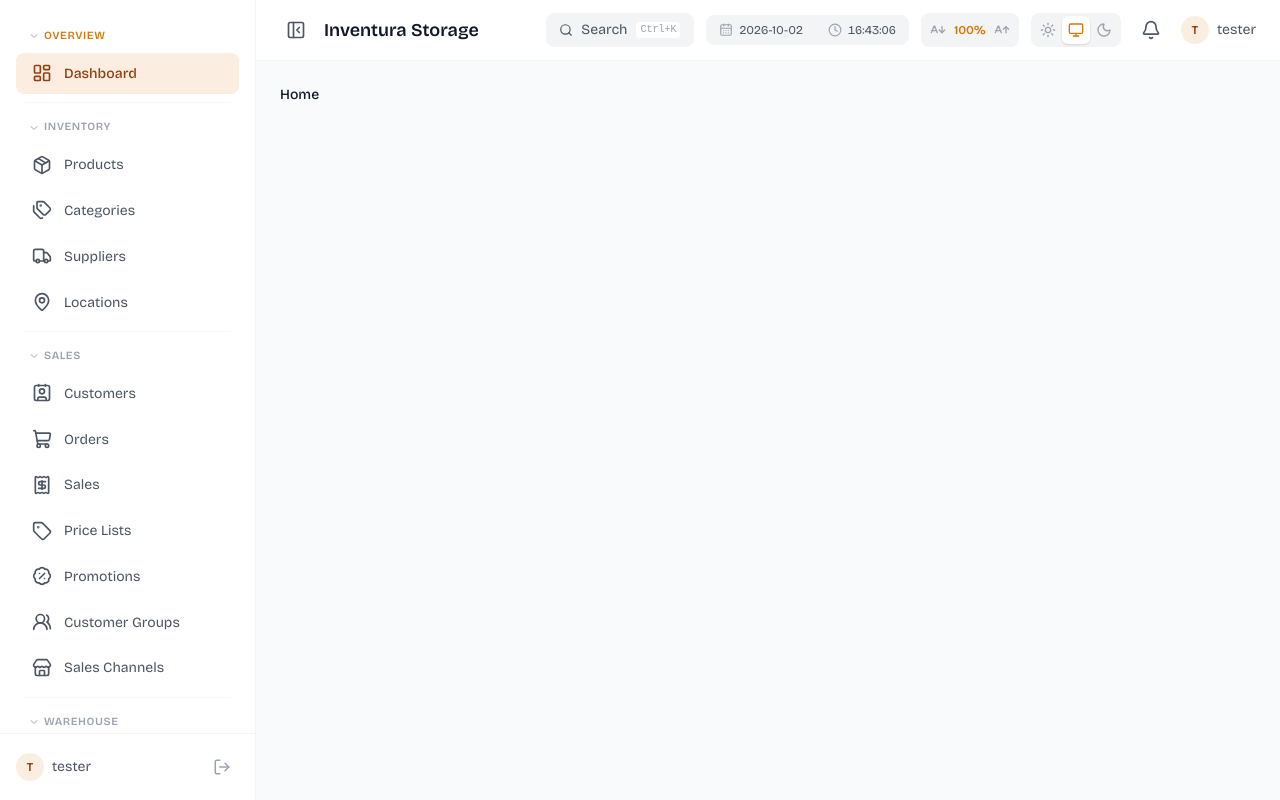
Test case: Layout › expands the sidebar back after collapsing
Click the button titled "Collapse sidebar" at [296, 30], box [280,14,312,46]
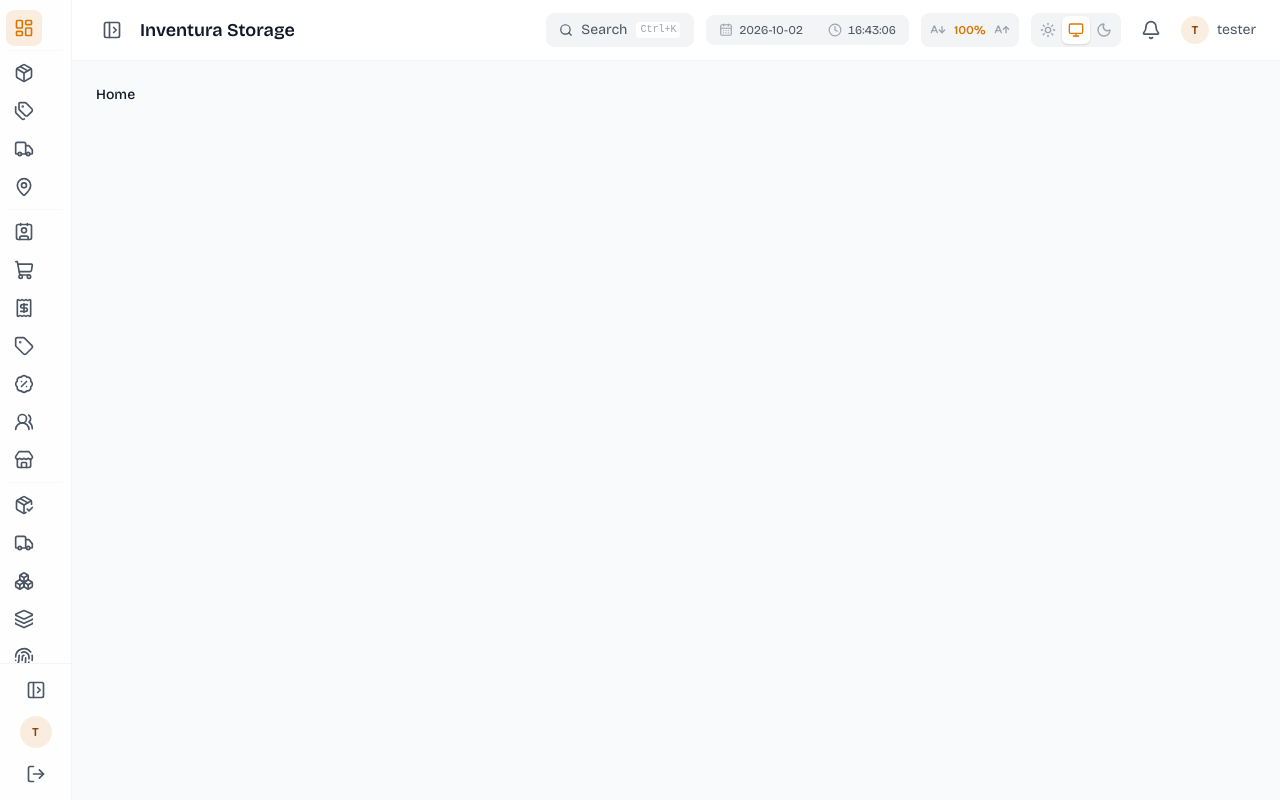
Click the button titled "Expand sidebar" next to "Inventura Storage" at [112, 30], box [96,14,128,46]
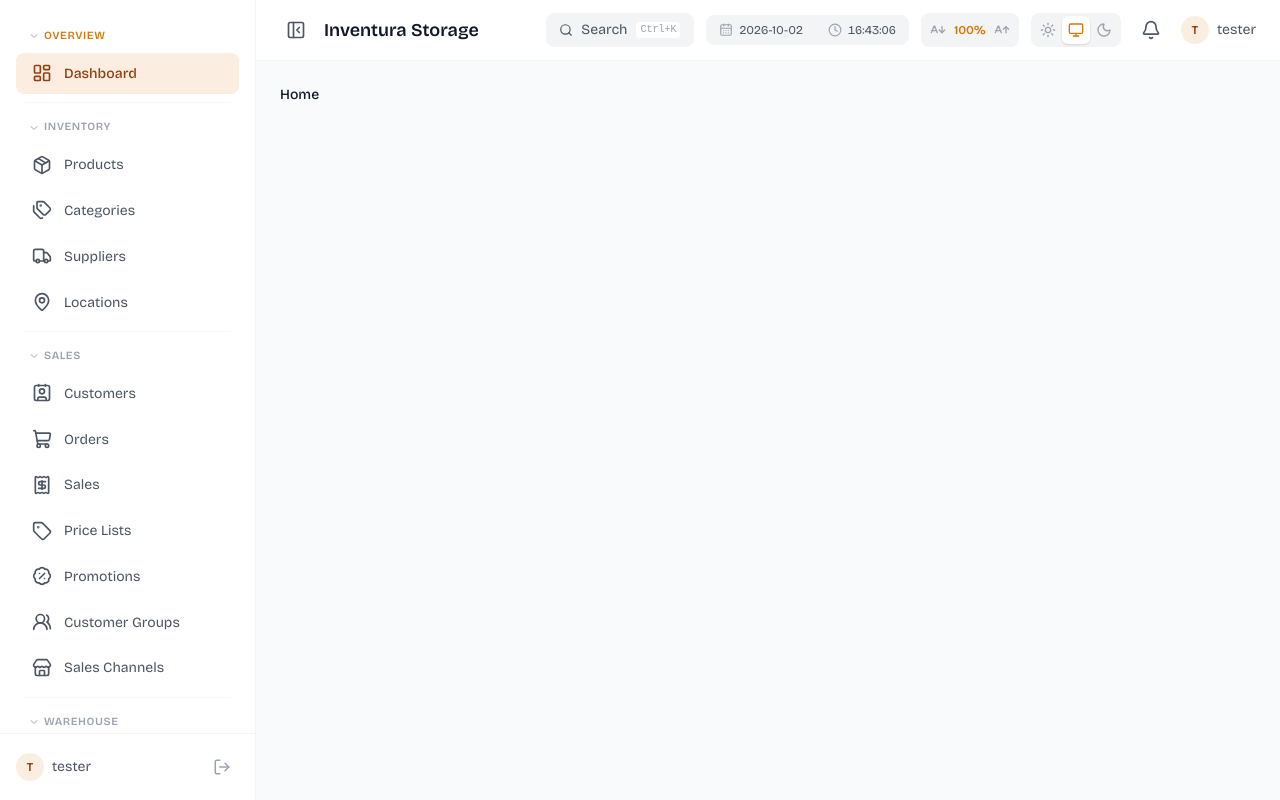
Expected: the button titled "Collapse sidebar" is shown, [280,14,312,46]
